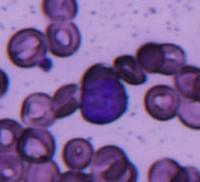B: (80, 77, 128, 124)
